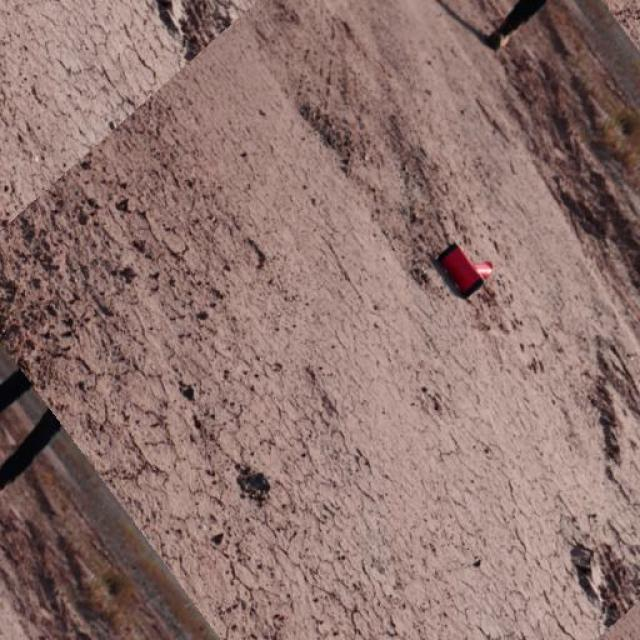mallet: (437, 240, 495, 296)
